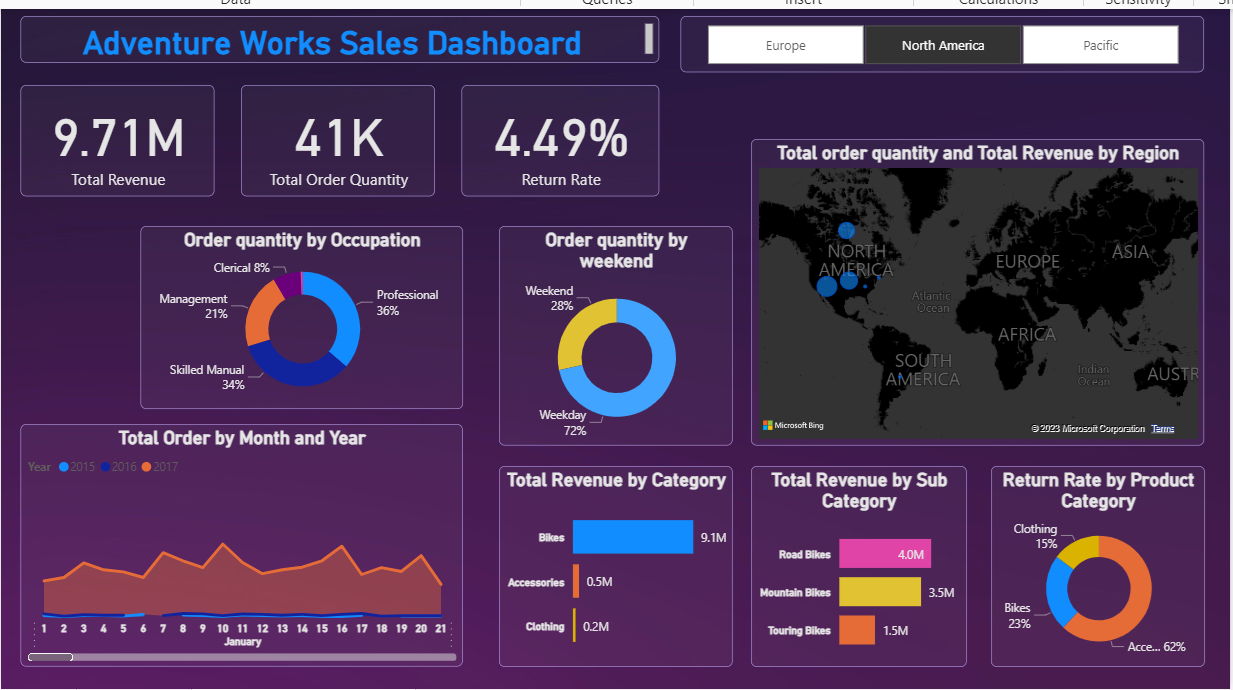

Layout of this report page (visuals, bound fields, positions):
{"tool":"powerbi","page":{"name":"SALES DASHBOARD","canvas":[1280,720],"ordinal":2},"visuals":[{"type":"clusteredBarChart","title":"Total Revenue by Category","fields":{"Category":["AW_Product_Categories.CategoryName"],"Y":["Transanction.Total Revenue"]},"box":[519.2,487.1,243.5,209.6],"z":0},{"type":"clusteredBarChart","title":"Total Revenue by Sub Category","fields":{"Category":["AW_Product_Subcategories.SubcategoryName"],"Y":["Transanction.Total Revenue"]},"box":[781.6,487.1,224.7,209.6],"z":1000},{"type":"donutChart","title":" Order quantity by weekend","fields":{"Category":["Calender.weekend"],"Y":["Transanction.total order quantity"]},"box":[519.2,237.9,243.5,228.4],"z":2000},{"type":"map","title":"Total order quantity and Total Revenue by Region","fields":{"Category":["AW_Territories.Region"],"Size":["Transanction.total order quantity"]},"box":[781.6,147.3,472,319.1],"z":3000},{"type":"donutChart","title":" Order quantity by Occupation","fields":{"Category":["AW_Customers.Occupation"],"Y":["Transanction.total order quantity"]},"box":[145.4,237.9,336,190.7],"z":4000},{"type":"donutChart","title":"Return Rate by Product Category","fields":{"Y":["AW_Returns.quantity return"],"Category":["AW_Product_Categories.CategoryName"]},"box":[1030.8,487.1,222.8,209.6],"z":5000},{"type":"stackedAreaChart","title":" Total Order by Month and Year","fields":{"Y":["Sum(Transanction.OrderQuantity)"],"Category":["Calender.Date.Variation.Date Hierarchy.Month","Calender.Date.Variation.Date Hierarchy.Day"],"Series":["Calender.Date.Variation.Date Hierarchy.Year"]},"box":[20.8,443.7,460.6,253],"z":6000},{"type":"slicer","fields":{"Values":["AW_Territories.Continent"]},"box":[708,18.9,545.6,58.5],"z":7000},{"type":"textbox","box":[20,18.3,665,48.3],"z":8000},{"type":"card","fields":{"Values":["Transanction.Total Revenue"]},"box":[20,90,202,116],"z":9000},{"type":"card","fields":{"Values":["sales.total order count"]},"box":[250,90,202,116],"z":10000},{"type":"card","fields":{"Values":["AW_Returns.return rate"]},"box":[480,90,206,116],"z":11000}]}

Visuals, with their boxes on the page's 1280x720 design canvas (x1, y1, x2, y2). These are canvas units, not pixel positions in the 1233x690 screenshot, which may show the page scaled, cropped or inside an application window:
"Total Revenue by Category" clusteredBarChart: locate(519, 487, 763, 697)
"Total Revenue by Sub Category" clusteredBarChart: locate(782, 487, 1006, 697)
" Order quantity by weekend" donutChart: locate(519, 238, 763, 466)
"Total order quantity and Total Revenue by Region" map: locate(782, 147, 1254, 466)
" Order quantity by Occupation" donutChart: locate(145, 238, 481, 429)
"Return Rate by Product Category" donutChart: locate(1031, 487, 1254, 697)
" Total Order by Month and Year" stackedAreaChart: locate(21, 444, 481, 697)
slicer - AW_Territories.Continent: locate(708, 19, 1254, 77)
textbox: locate(20, 18, 685, 67)
card - Transanction.Total Revenue: locate(20, 90, 222, 206)
card - sales.total order count: locate(250, 90, 452, 206)
card - AW_Returns.return rate: locate(480, 90, 686, 206)
